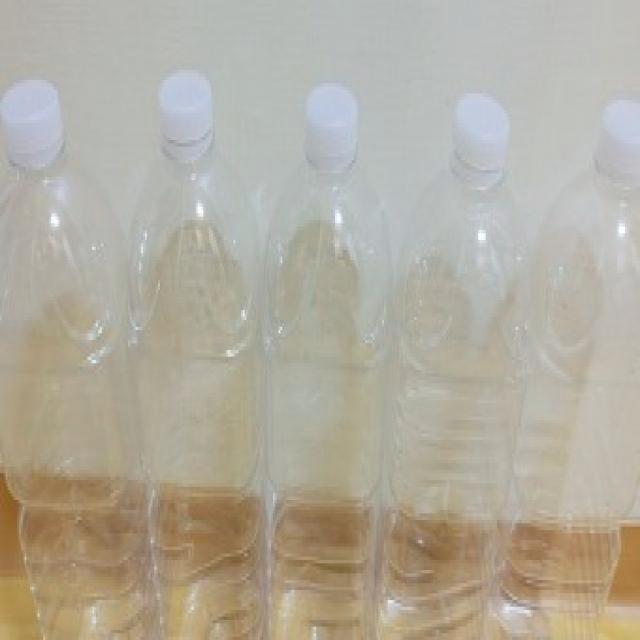bottle: (2, 80, 164, 640), (130, 70, 271, 640), (512, 99, 640, 640), (382, 93, 506, 640), (268, 83, 379, 640)
